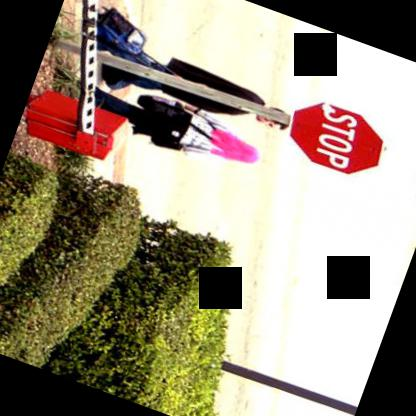backpack: (86, 7, 147, 53)
handbag: (137, 95, 211, 143), (150, 134, 181, 150)
suitcase: (96, 8, 142, 59)
